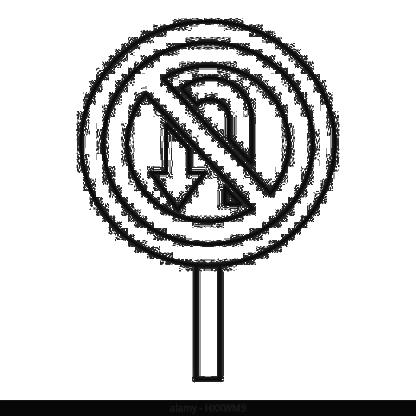No U-turn: (78, 14, 340, 264)
